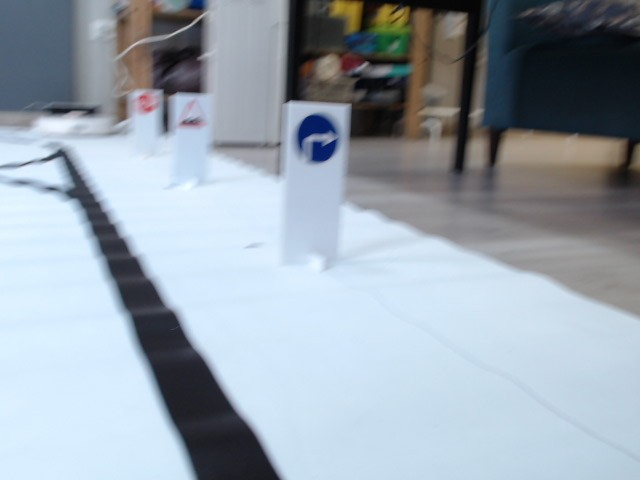Right: (294, 113, 338, 164)
